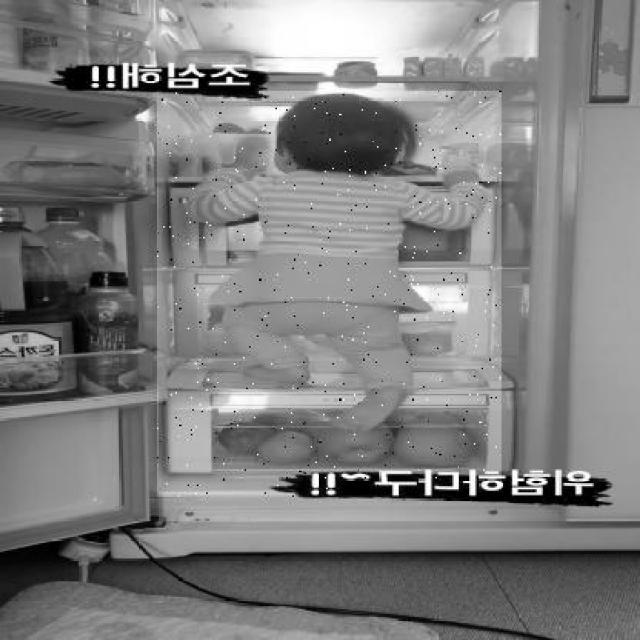child: (157, 91, 501, 497)
